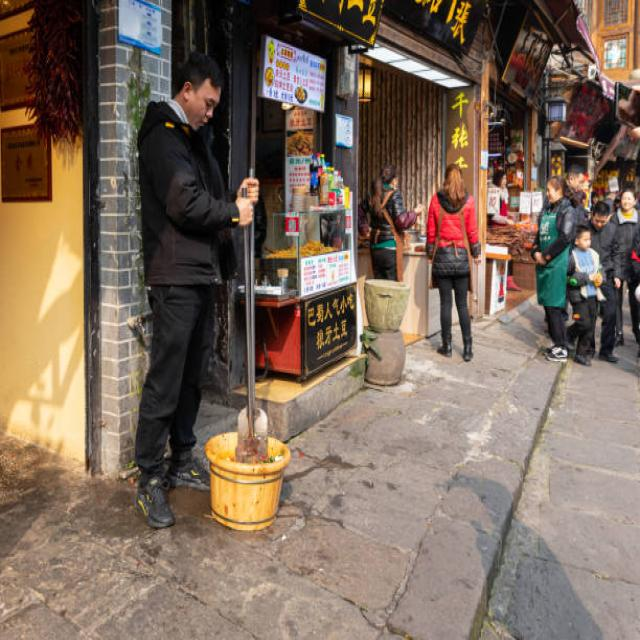Emperan: (186, 0, 424, 448)
